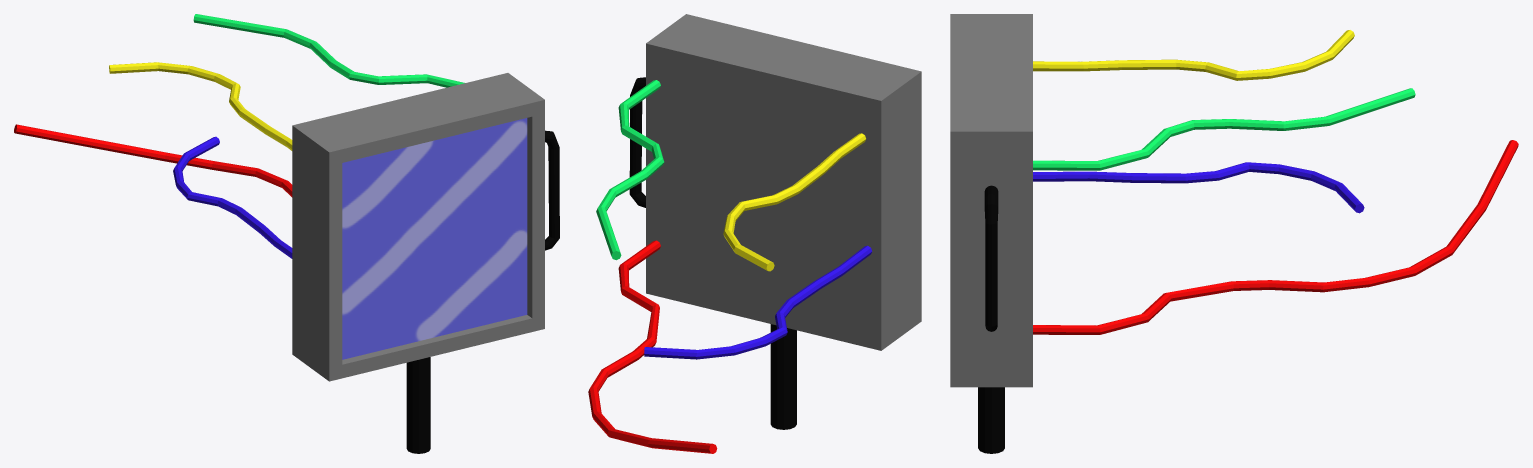
The model's file is MoniterTree.fbx.
3 renders of one model, left to right at view 1: azimuth 30°, elevation 25°; view 2: azimuth 150°, elevation 25°; view 3: azimuth 270°, elevation 25°, orthographic. The views are drawn at different scales.
Visible parts, largest first — view 1: MoniterTree; view 2: MoniterTree; view 3: MoniterTree.
Part boxes in pixels (box(x1,y1,x2,y2)): MoniterTree: box(14, 14, 559, 453); MoniterTree: box(588, 14, 921, 453); MoniterTree: box(950, 14, 1518, 453).
Size of the model in its own units: 211 by 217 by 298.
